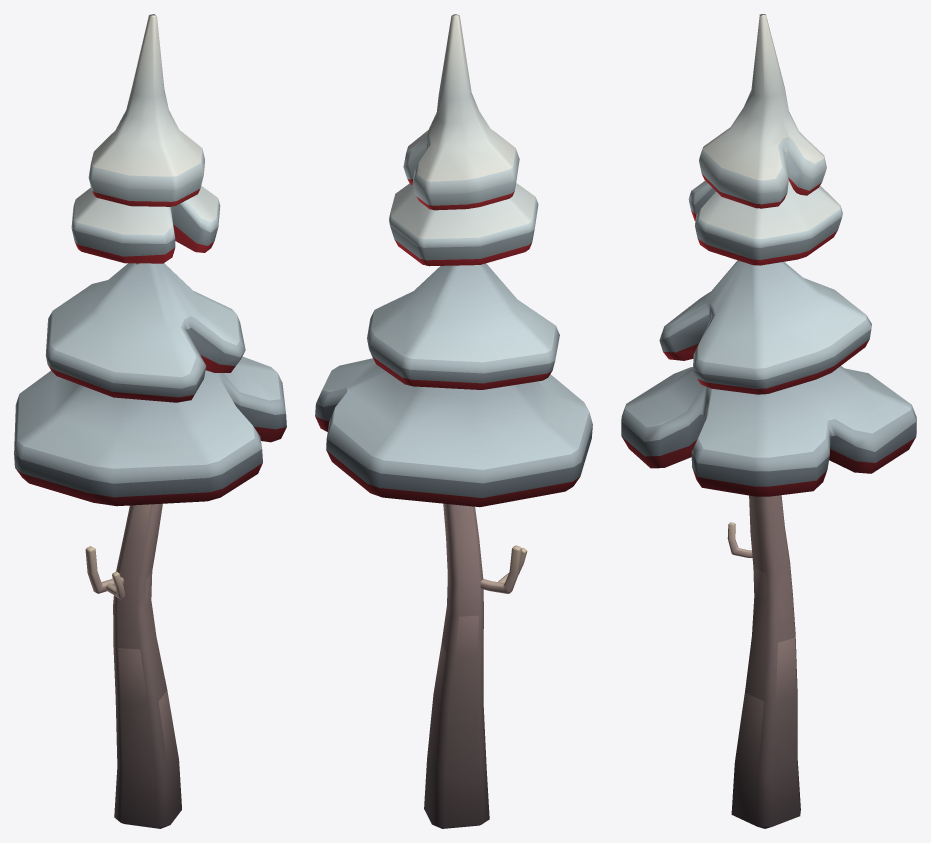
Rendered from pine_tree_col3_02_snow.fbx.
3 renders of one model, left to right at view 1: azimuth 30°, elevation 25°; view 2: azimuth 150°, elevation 25°; view 3: azimuth 270°, elevation 25°, orthographic.
Visible parts, largest first — view 1: pine_tree_col3_02_snow; view 2: pine_tree_col3_02_snow; view 3: pine_tree_col3_02_snow.
Part boxes in pixels (x1,y1,x2,y2): pine_tree_col3_02_snow: (14, 14, 286, 828); pine_tree_col3_02_snow: (315, 14, 592, 828); pine_tree_col3_02_snow: (621, 14, 916, 828).
Size of the model in its own units: 479 by 1437 by 479.
1 material, 1 textured.
